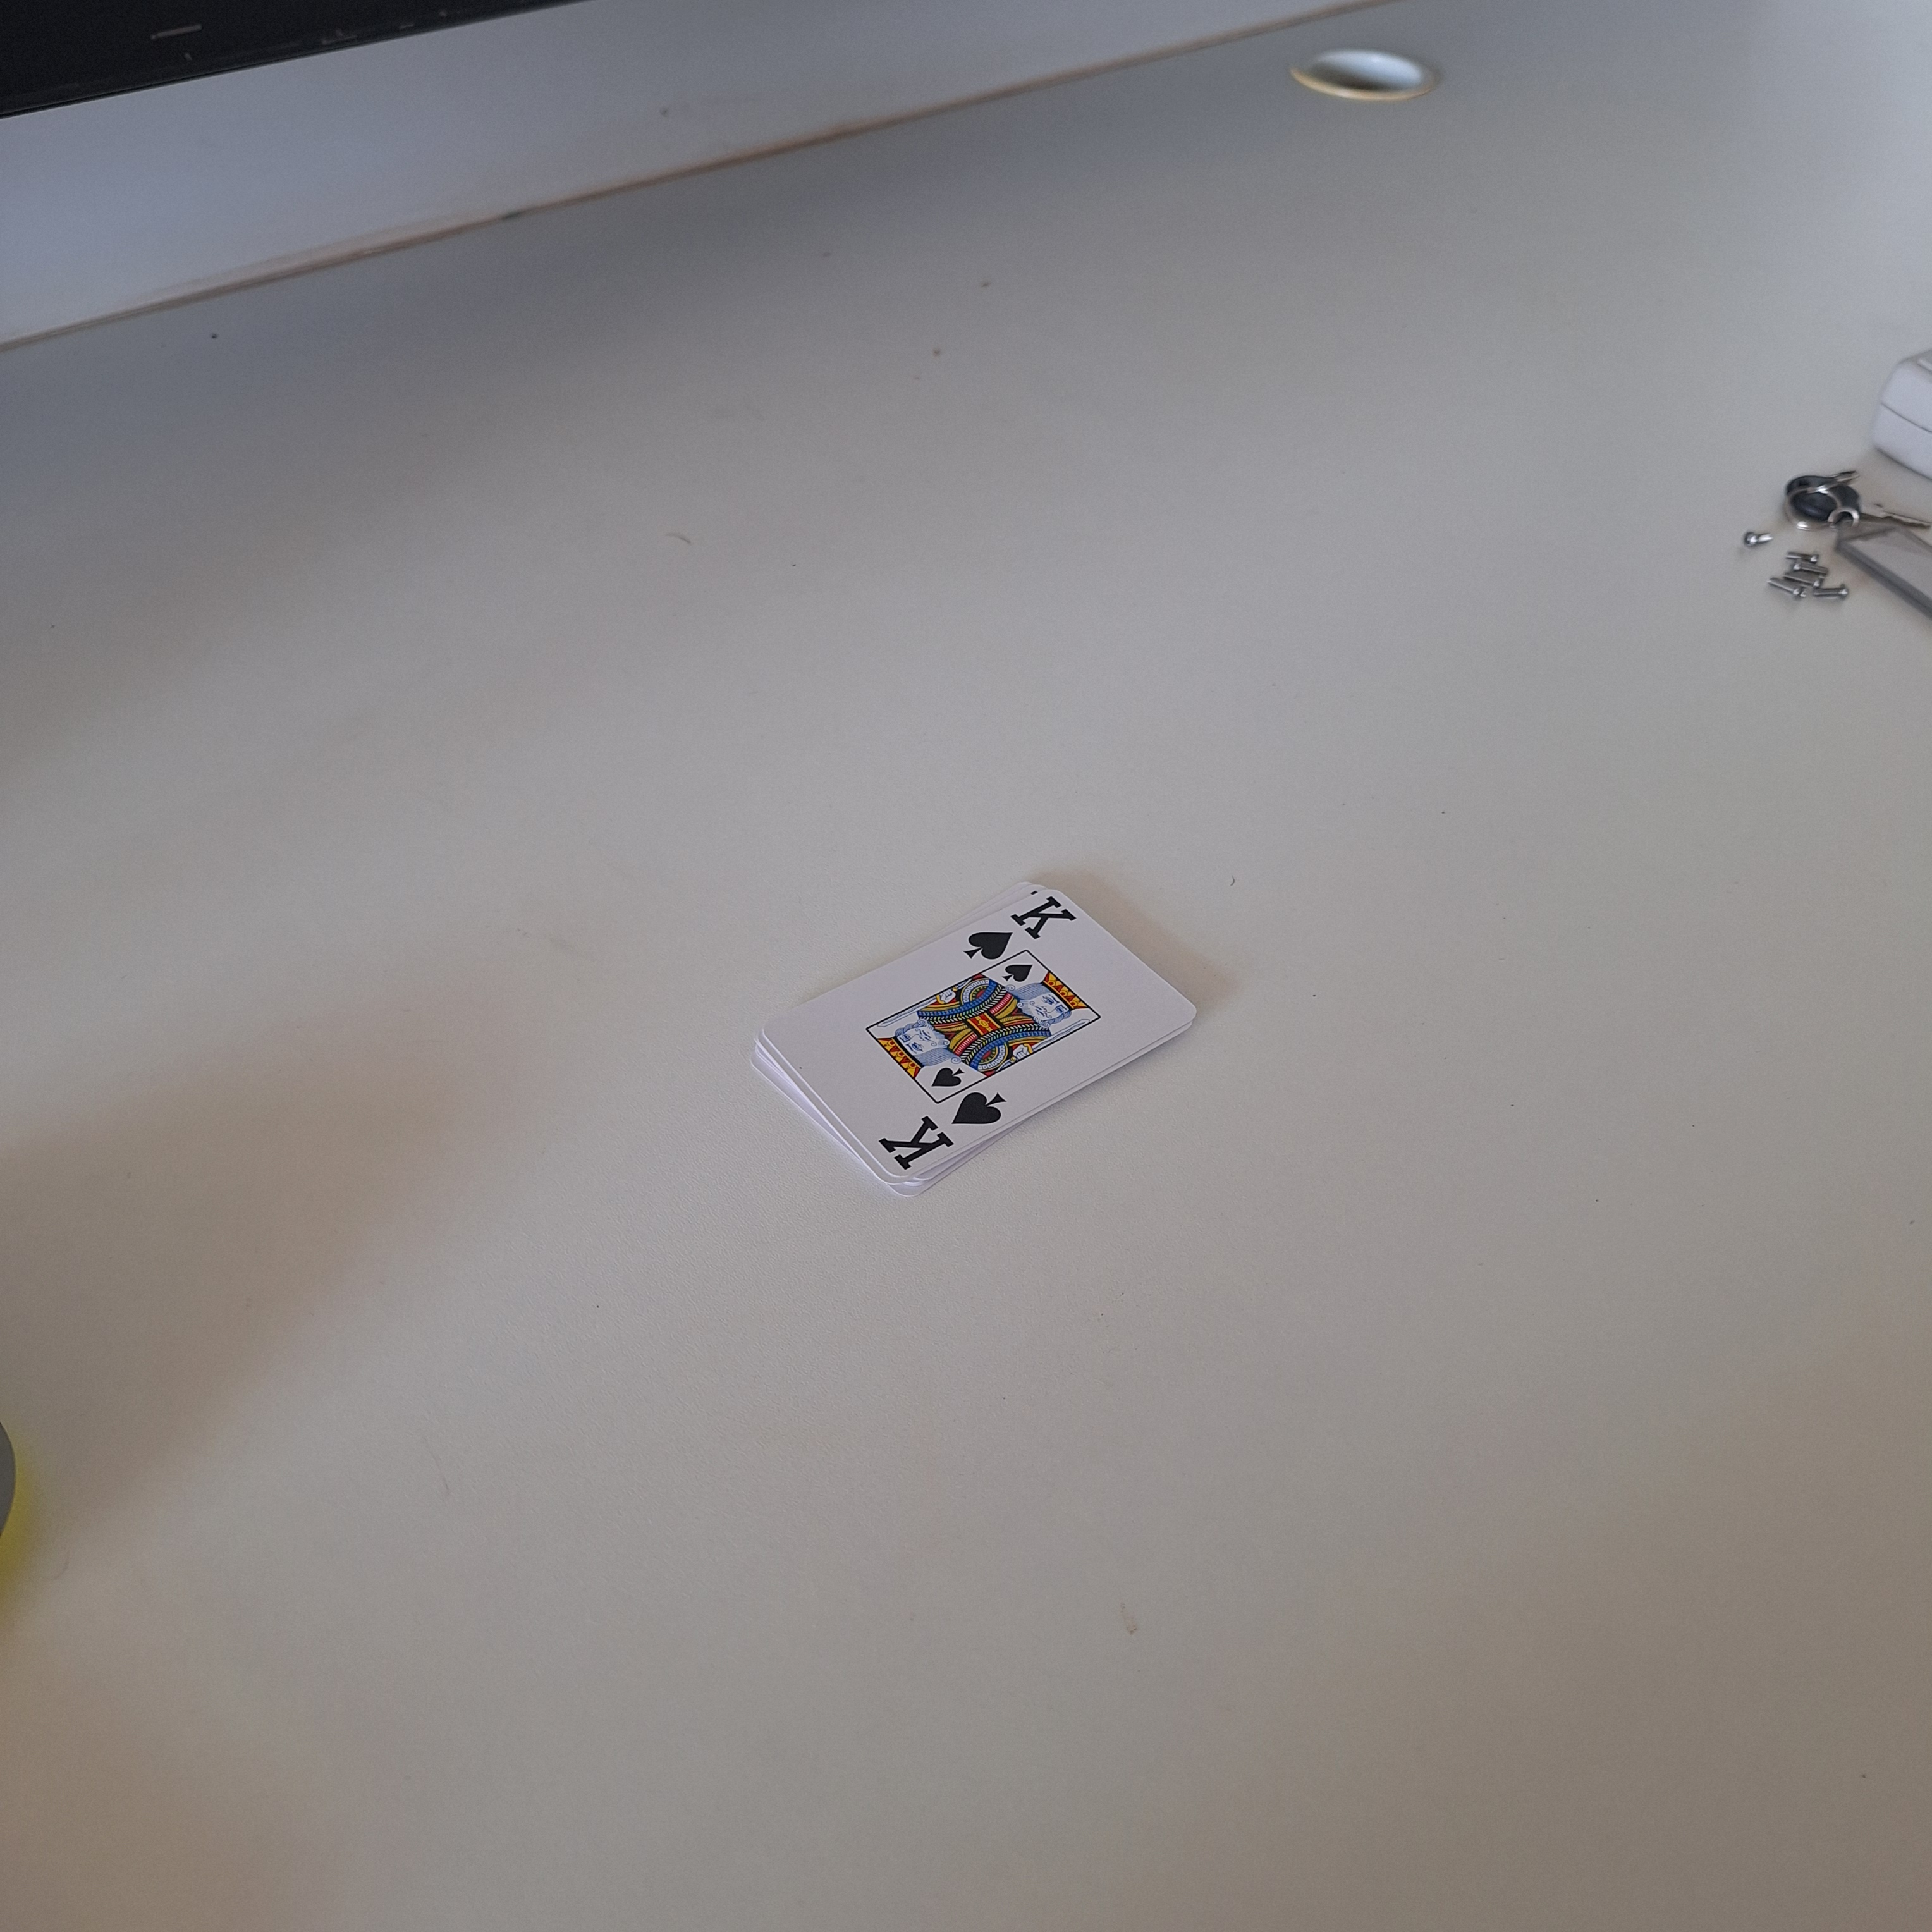KE: (870, 1086, 1012, 1177), (957, 888, 1085, 962)
